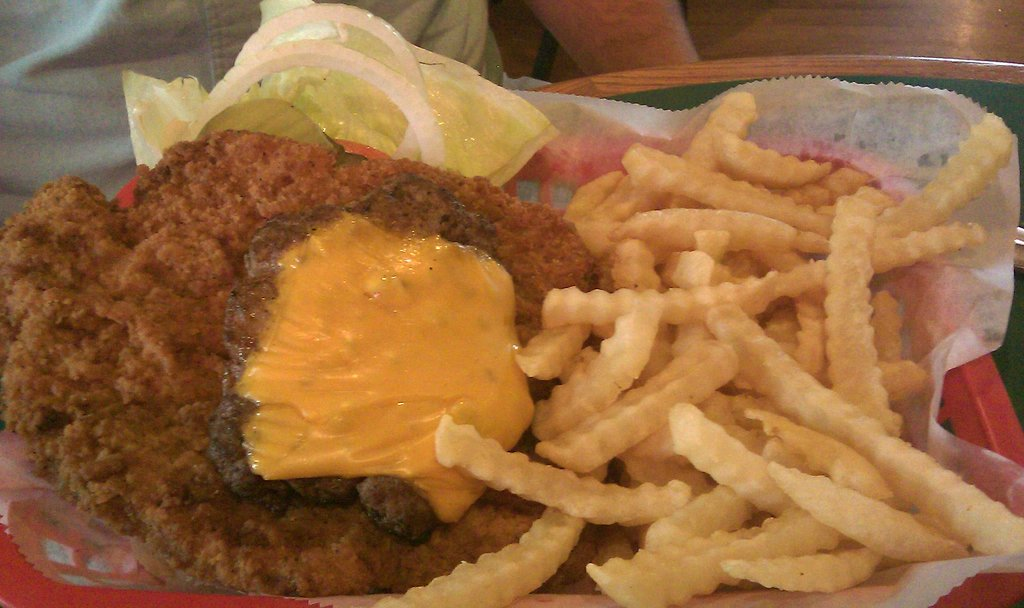French fries: (357, 80, 1023, 607)
